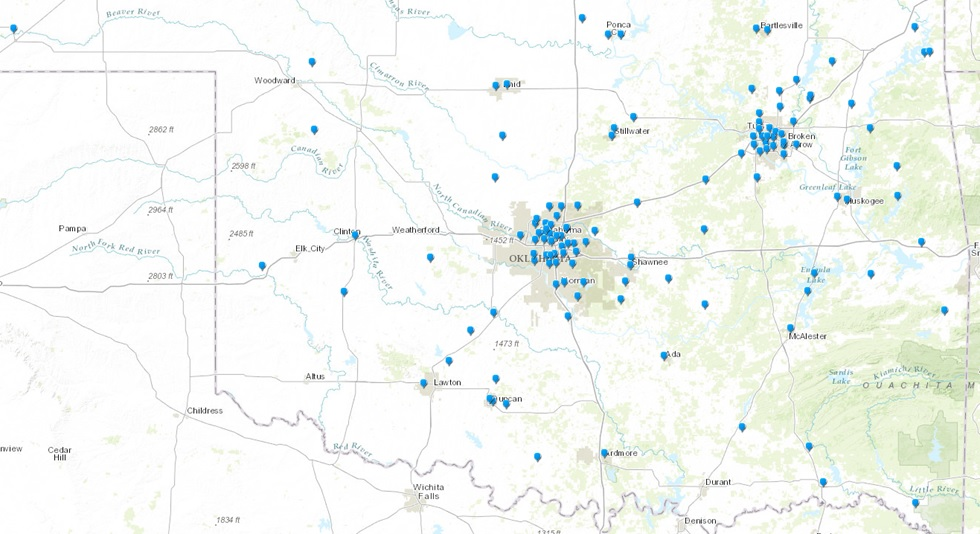

What the dashboard file says about the page in this screenshot:
{"tool":"tableau","page":{"name":"Dashboard 1","canvas":[1000,800],"ordinal":0},"visuals":[{"type":"worksheet","title":"Sheet 1","mark":"Circle","box":[0,0,683,400]},{"type":"worksheet","title":"Sheet 2","mark":"Pie","box":[683,0,317,400]},{"type":"worksheet","title":"Sheet 3","mark":"Automatic","box":[0,400,518,400]},{"type":"worksheet","title":"Sheet 4","mark":"Automatic","rows":["fullname","merchant_category_code"],"cols":["total"],"box":[518,400,482,400]}]}

Visuals, with their boxes on the page's 1000x800 design canvas (x1, y1, x2, y2). These are canvas units, not pixel positions in the 980x534 screenshot, which may show the page scaled, cropped or inside an application window:
"Sheet 1" worksheet (Circle marks): box=[0, 0, 683, 400]
"Sheet 2" worksheet (Pie marks): box=[683, 0, 1000, 400]
"Sheet 3" worksheet: box=[0, 400, 518, 800]
"Sheet 4" worksheet: box=[518, 400, 1000, 800]
